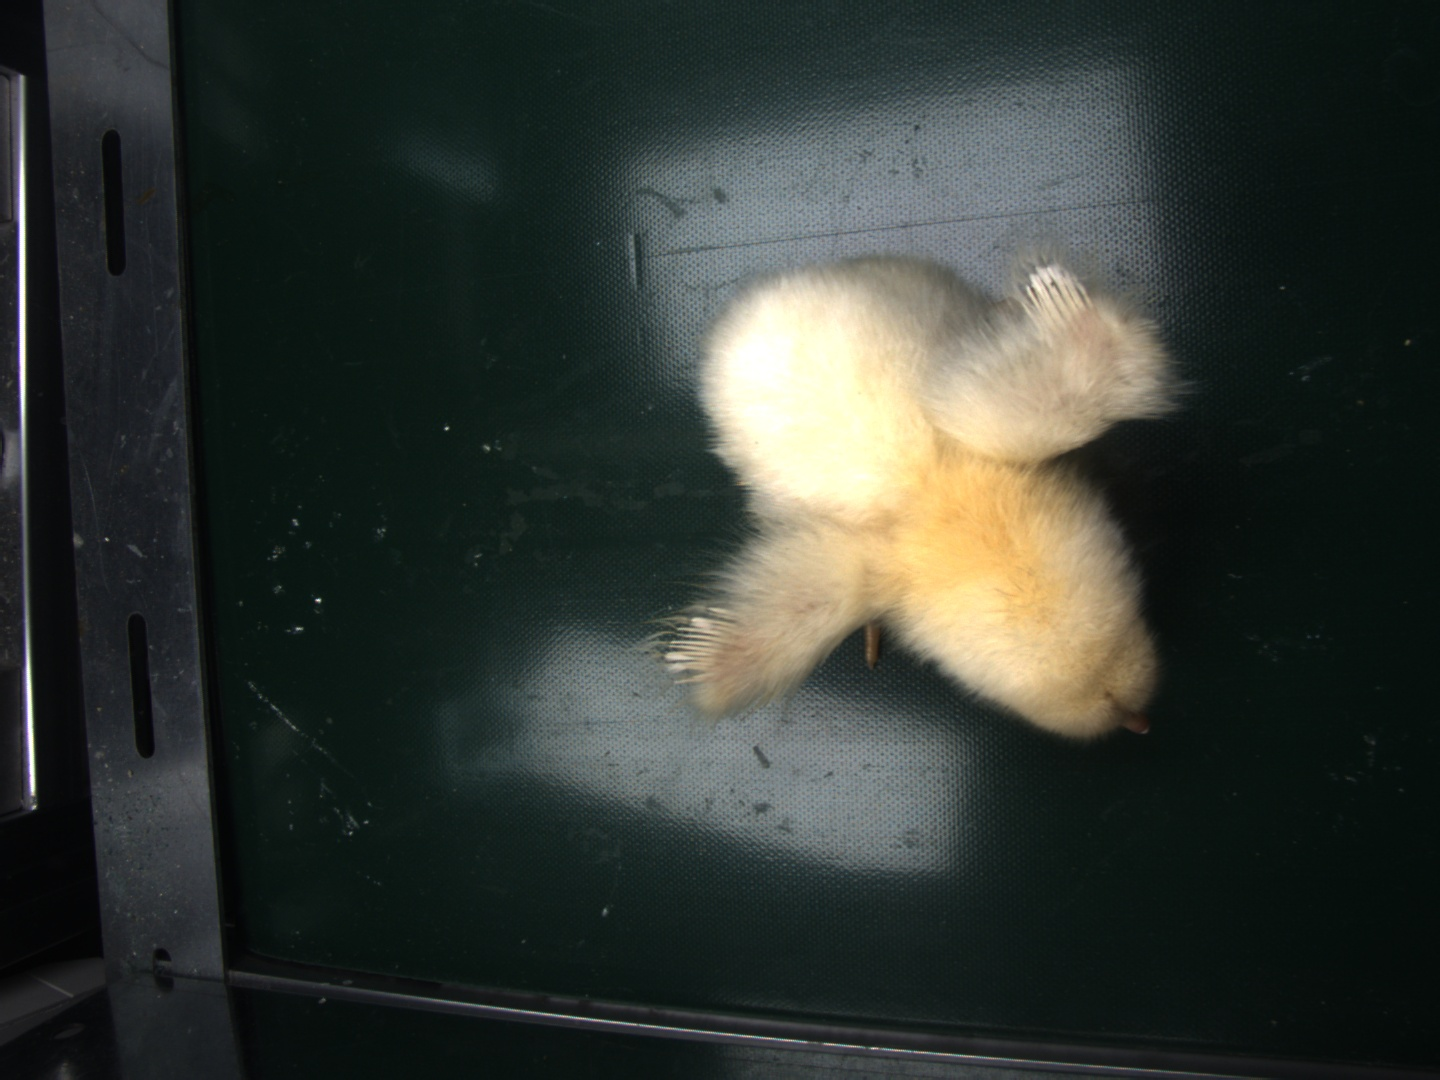male: (663, 606, 736, 692)
